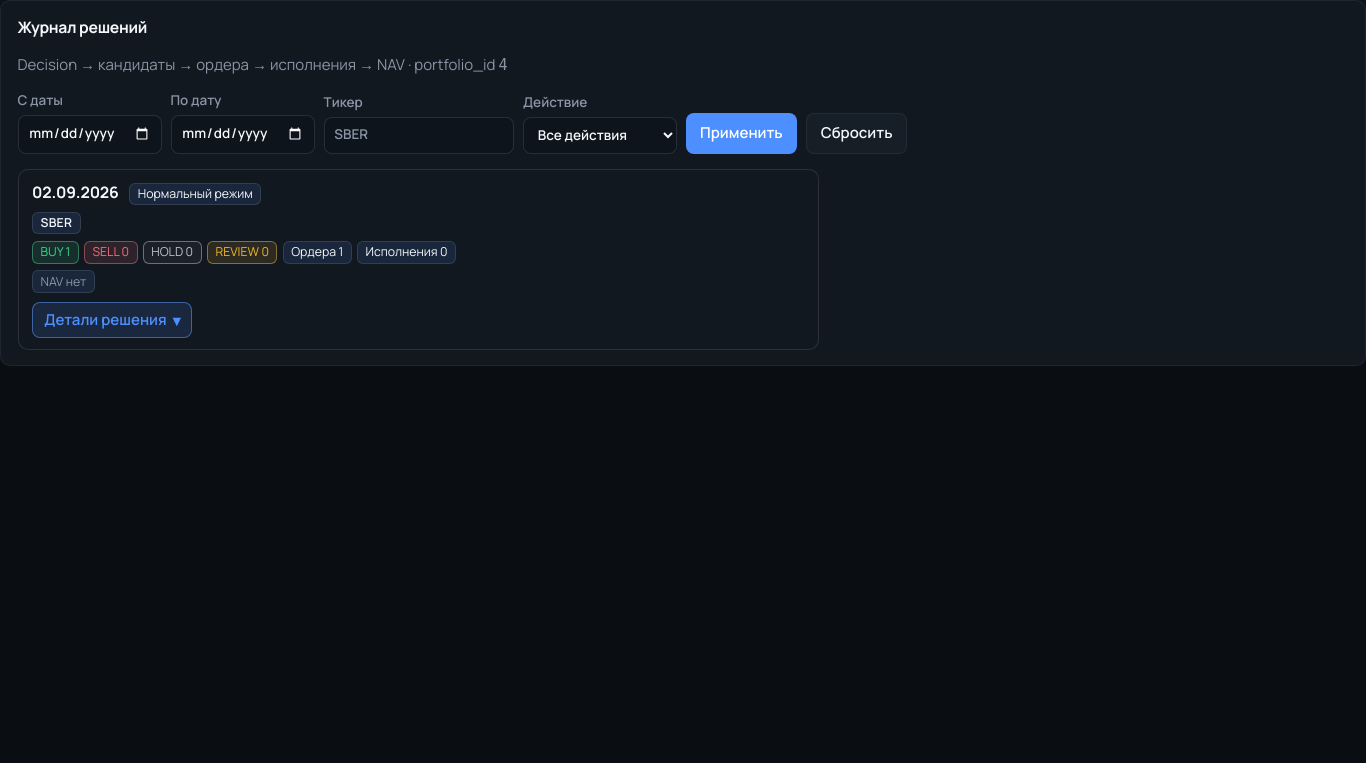
Test: DecisionJournalPanel V4 › shows legacy message when detail_available=false and message_ru provided
The width and height of the screenshot is (1366, 763).
Step 1. Click the button with test id "shadow-journal-day-toggle" → (112, 320), box [32,302,192,338]
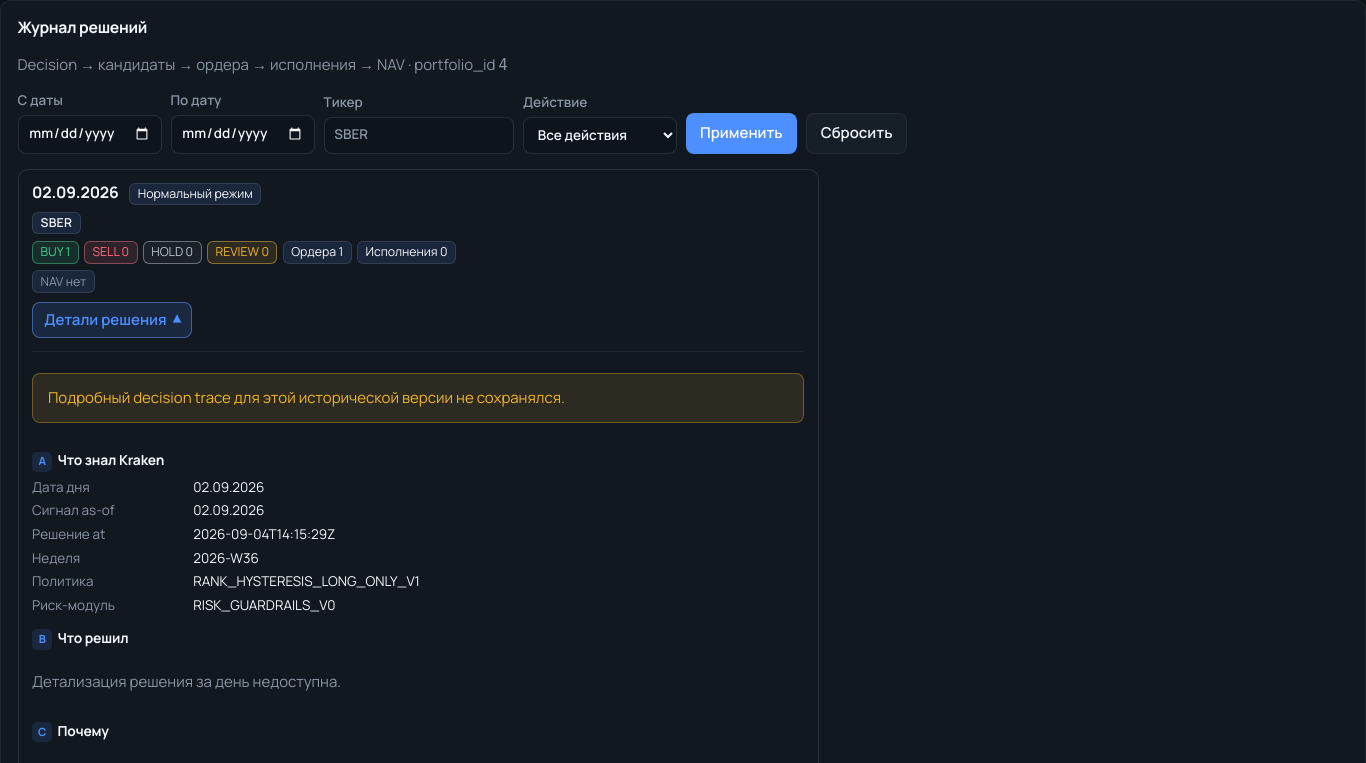
Now the text with test id "shadow-journal-legacy-message" reads "Подробный decision trace для этой исторической версии не сохранялся.", box [48,387,565,408]
